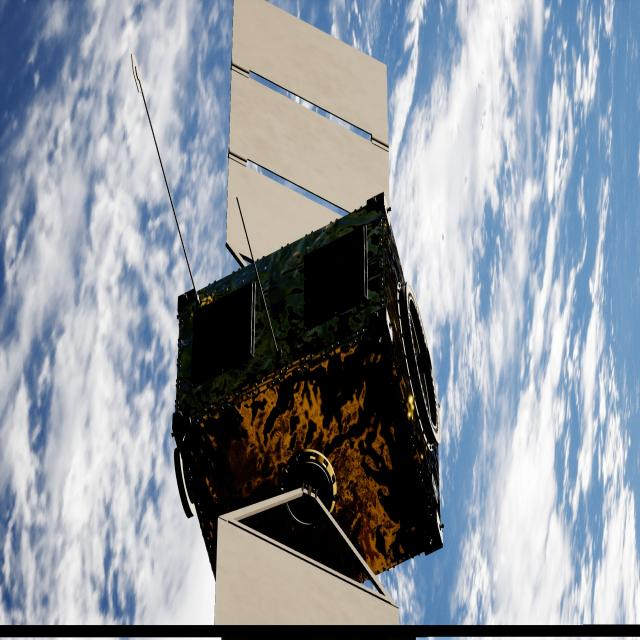satellite: (173, 0, 444, 626)
